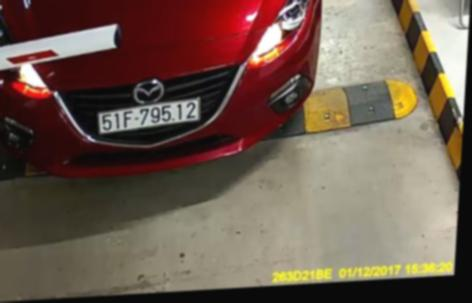License_Plate: (93, 100, 202, 134)
